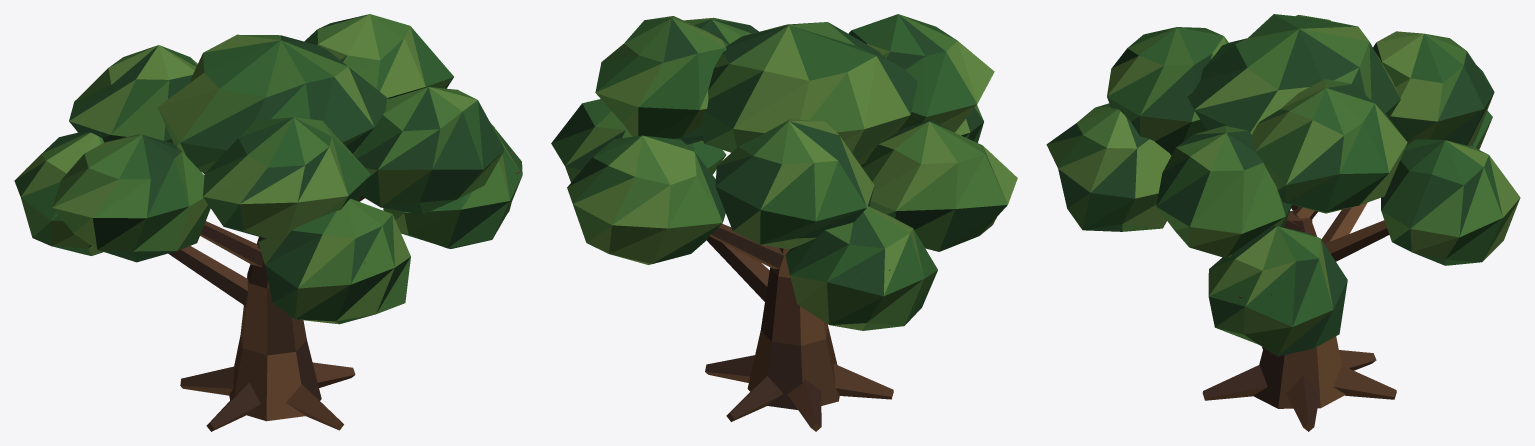
File: tree_oak_ancient.obj
The picture shows the model from 3 angles, left to right: view 1: azimuth 30°, elevation 25°; view 2: azimuth 150°, elevation 25°; view 3: azimuth 270°, elevation 25°; orthographic projection.
Parts seen in each view (by area): view 1: tree_oak_ancient; view 2: tree_oak_ancient; view 3: tree_oak_ancient.
Part boxes in pixels (box(x1,y1,x2,y2)): tree_oak_ancient: box(14, 14, 522, 431); tree_oak_ancient: box(551, 14, 1017, 431); tree_oak_ancient: box(1046, 14, 1520, 431).
Size of the model in its own units: 1015 by 760 by 890.
Materials: 1 (1 with a texture image).
